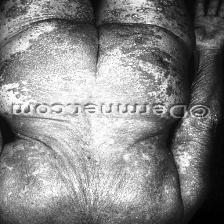Non-Cancerous Skin Condition: (0, 120, 174, 224), (10, 0, 178, 100)
